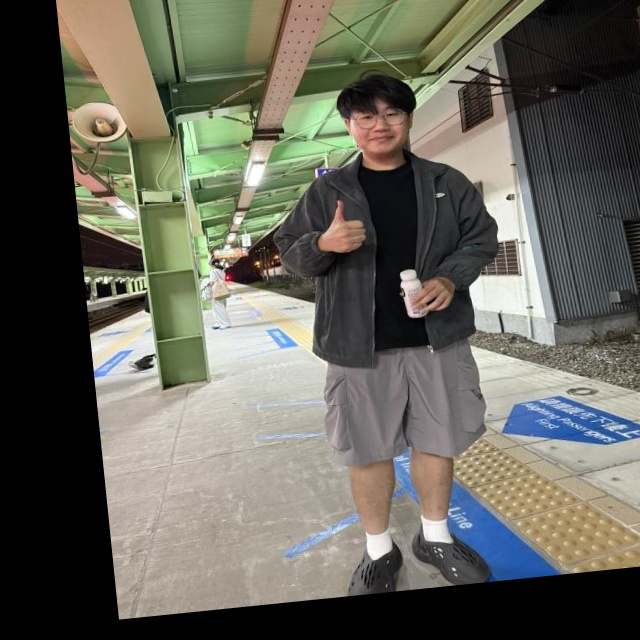Sin_Casco_Mascarrilla: (334, 71, 423, 157)
Sin_Chaleco: (310, 155, 475, 355)
